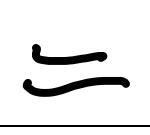eqv: (24, 44, 130, 97)
